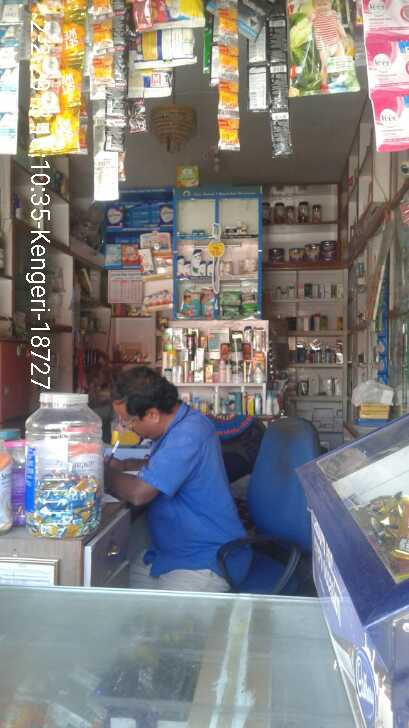beauty: (196, 258, 215, 278), (191, 242, 202, 276), (173, 256, 189, 276), (219, 257, 233, 275)
pharmacy: (176, 288, 199, 318), (197, 285, 215, 318), (219, 289, 243, 306), (218, 303, 243, 319), (242, 291, 262, 305), (243, 302, 258, 315), (188, 228, 206, 235)
